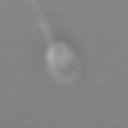normal: (26, 1, 56, 44)
